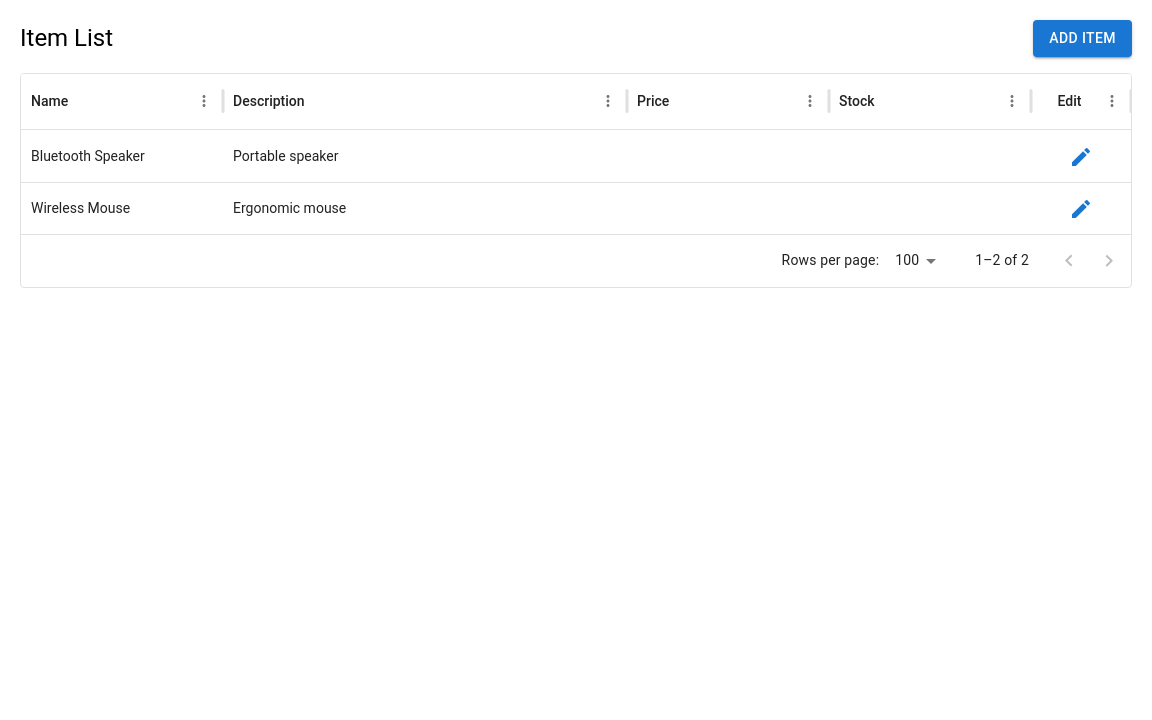
Test: LoadData Component › clicking edit button opens dialog with correct item
// Click edit
Click the button with test id "EditIcon". click: (1081, 157)
box: 1061,137 -> 1101,177
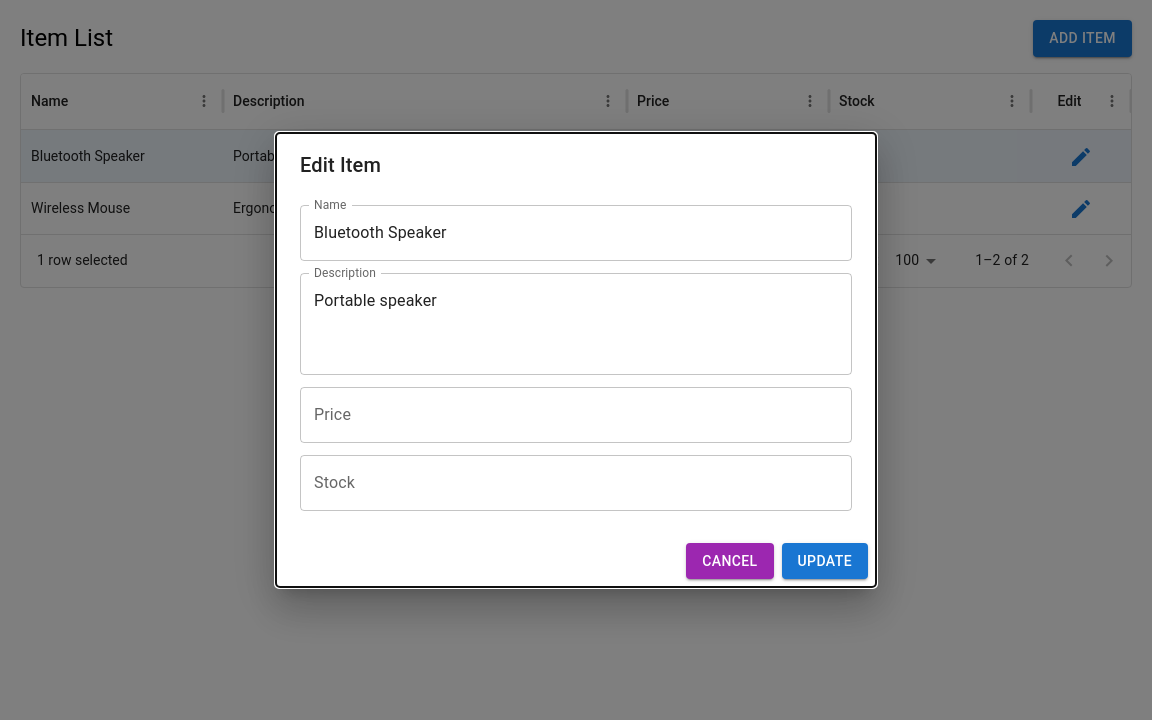
Expected: the field showing "Bluetooth Speaker" is shown, 300,205 -> 852,261
